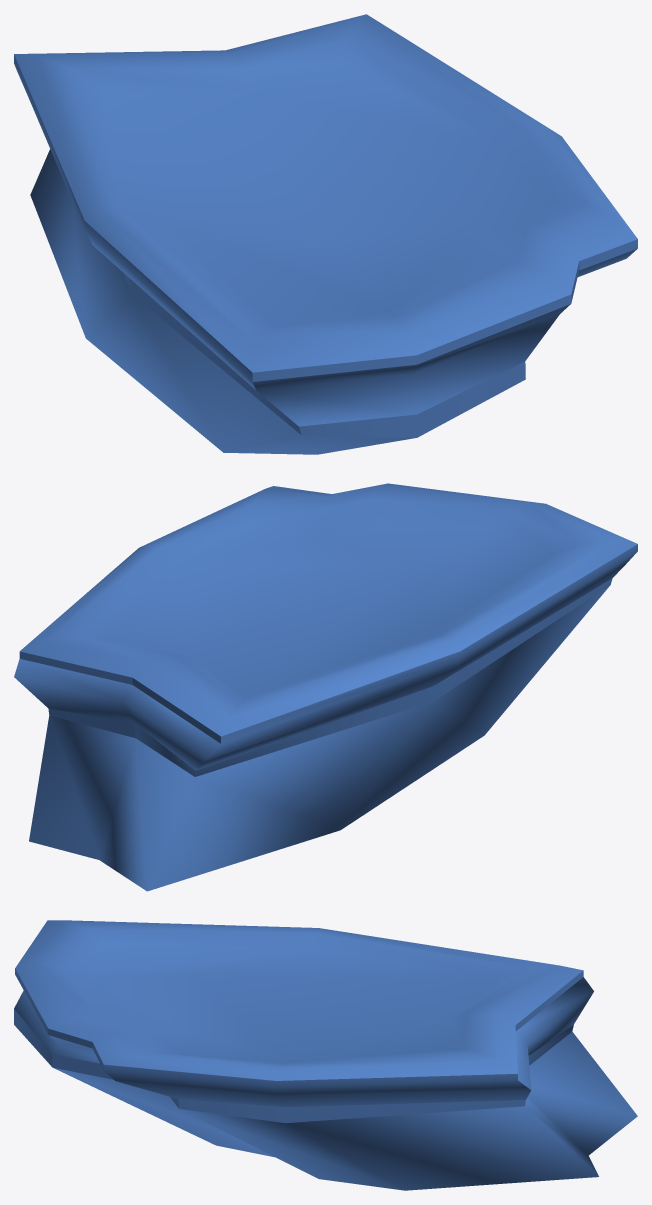
Rendered from FloatDungeon2.fbx.
The picture shows the model from 3 angles, top to bottom: view 1: azimuth 30°, elevation 25°; view 2: azimuth 150°, elevation 25°; view 3: azimuth 270°, elevation 25°; orthographic projection. The views are drawn at different scales.
Parts seen in each view (by area): view 1: FloatDungeon2; view 2: FloatDungeon2; view 3: FloatDungeon2.
Part boxes in pixels (box(x1,y1,x2,y2)): FloatDungeon2: box(14, 14, 637, 454); FloatDungeon2: box(14, 483, 637, 891); FloatDungeon2: box(14, 920, 637, 1190).
Size of the model in its own units: 304 by 147 by 498.
